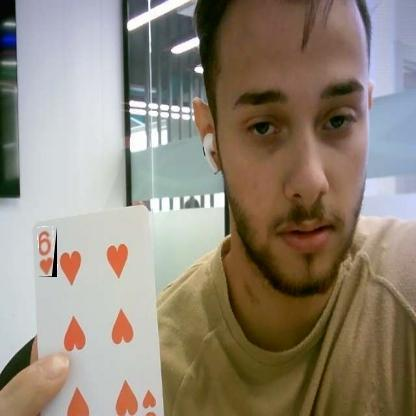6H: (39, 227, 57, 277)
